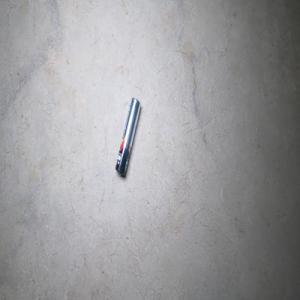Battery: (114, 96, 141, 176)
